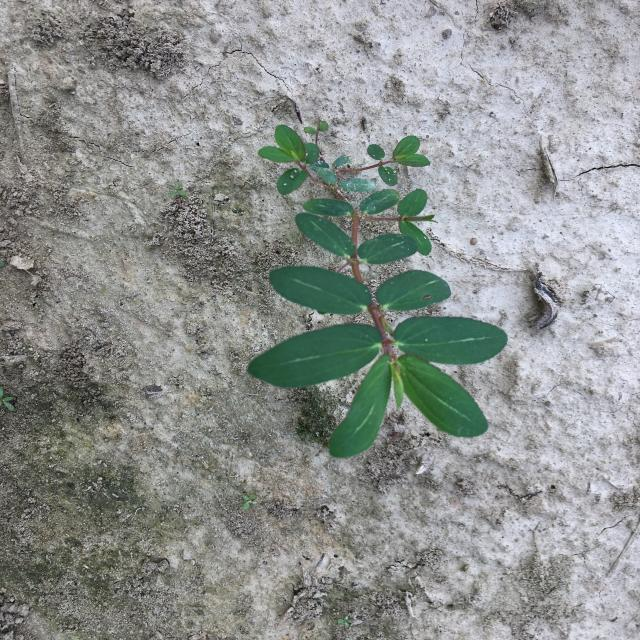SpottedSpurge: (247, 120, 509, 459)
